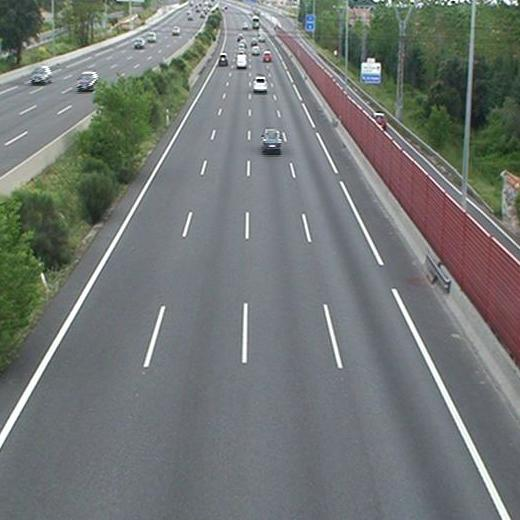car: (261, 130, 282, 150), (253, 77, 267, 91), (218, 53, 226, 65), (261, 52, 271, 61), (251, 46, 259, 54)
van: (237, 55, 247, 69)
